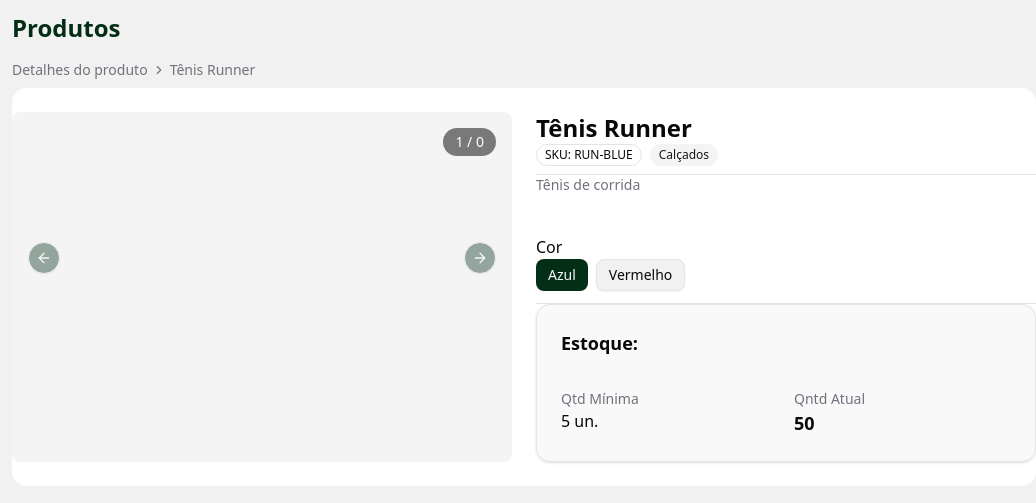
Test: ProductDetailsPage (Integration) › should switch variant data when user selects a different option
Expected: the text "SKU: RUN-BLUE" is shown, x1=536 y1=144 x2=642 y2=166
Click the button "Vermelho" at (641, 275), box x1=596 y1=259 x2=685 y2=291
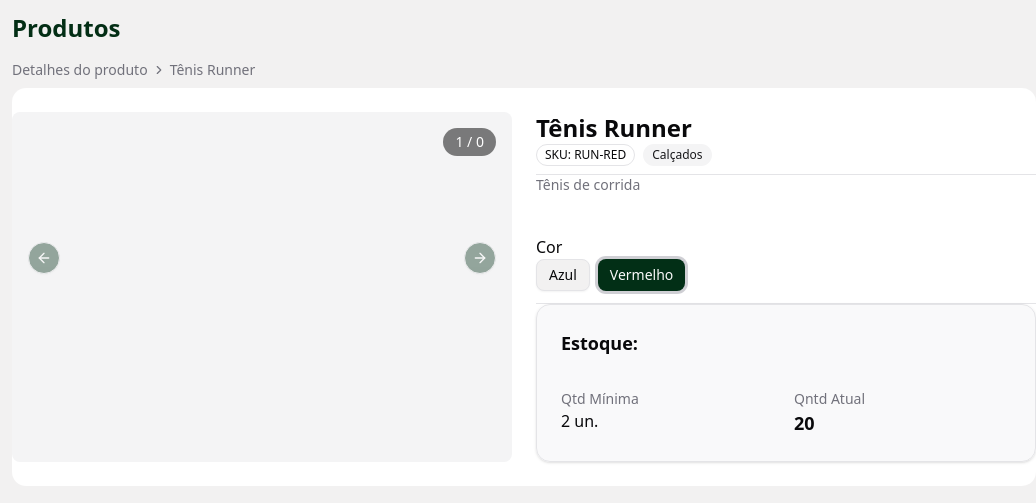
Expected: the text "SKU: RUN-RED" is shown, x1=536 y1=144 x2=635 y2=166
Expected: the text "RUN-BLUE" is gone
Expected: the text "20" is shown, x1=794 y1=411 x2=815 y2=435
